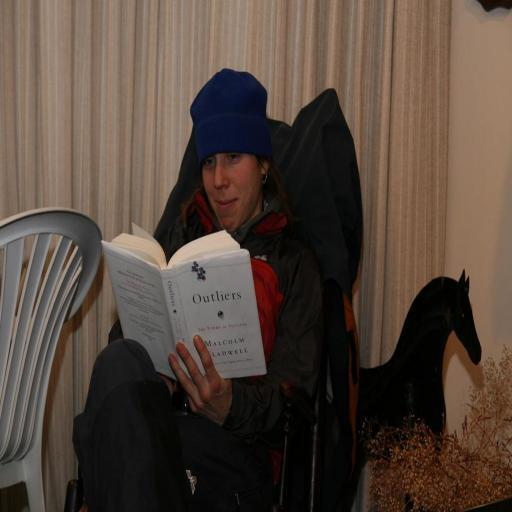horse: (349, 266, 482, 512)
